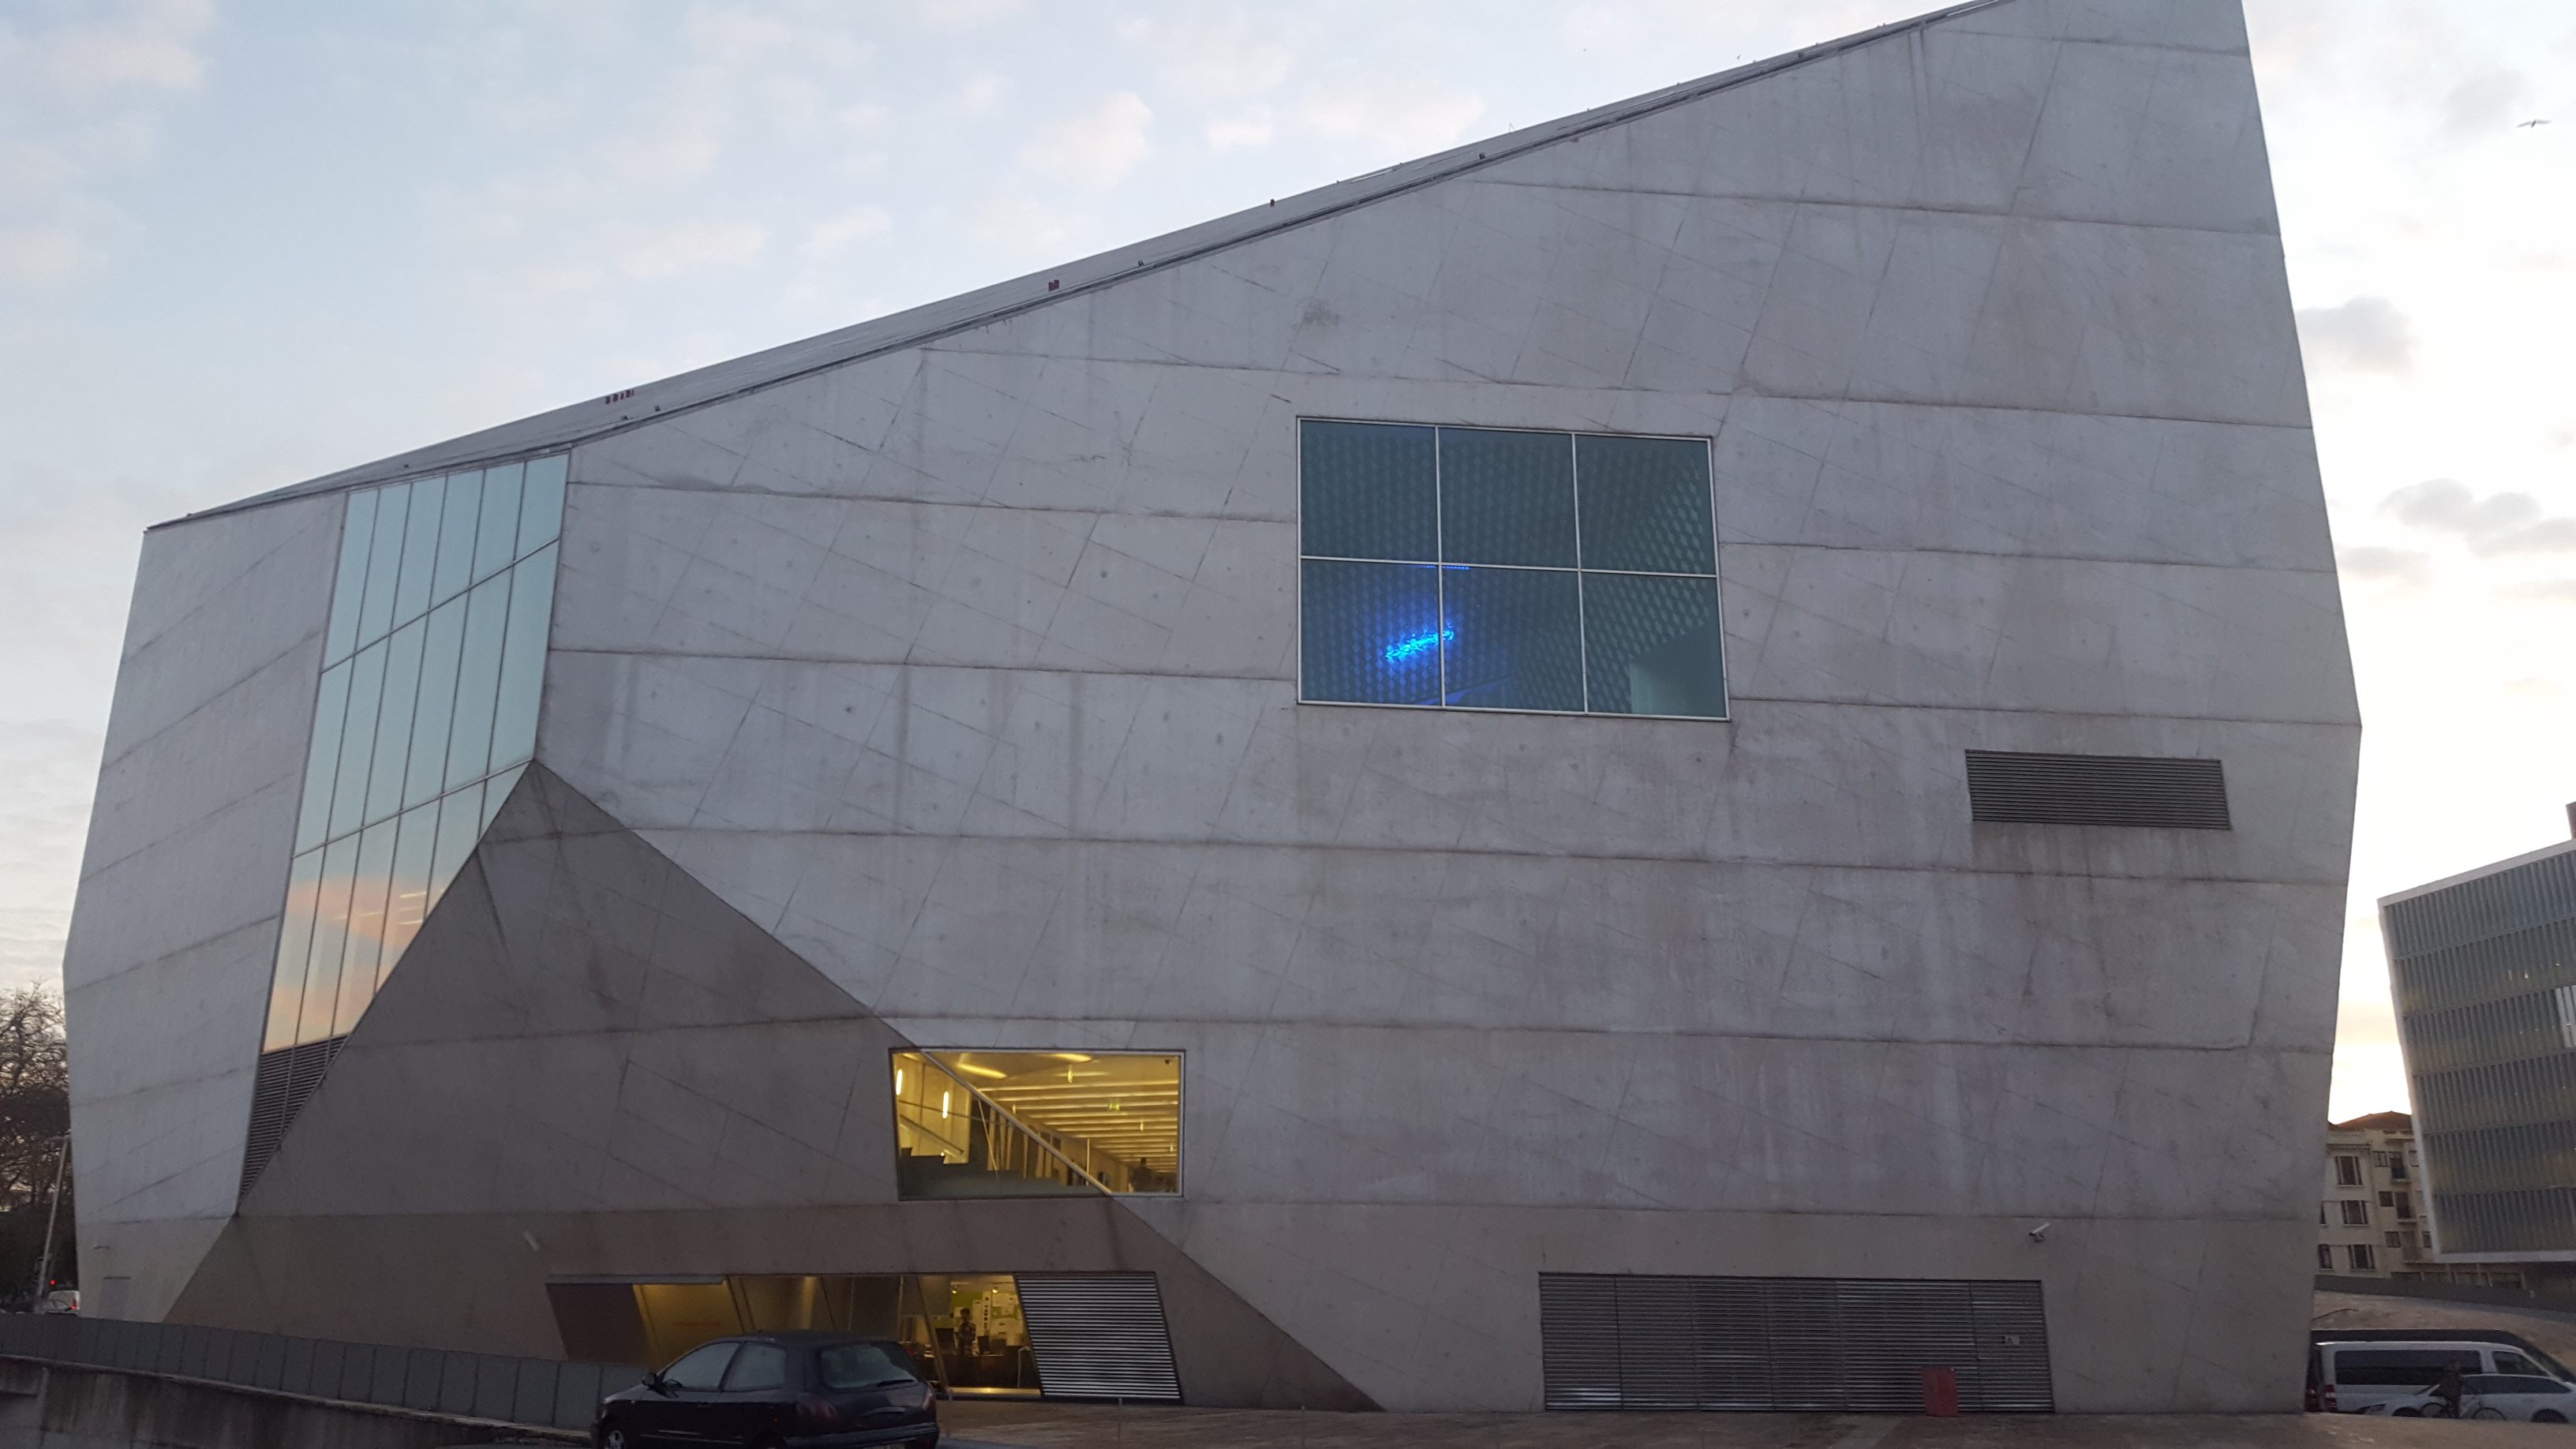musica: (51, 0, 2380, 1330)
